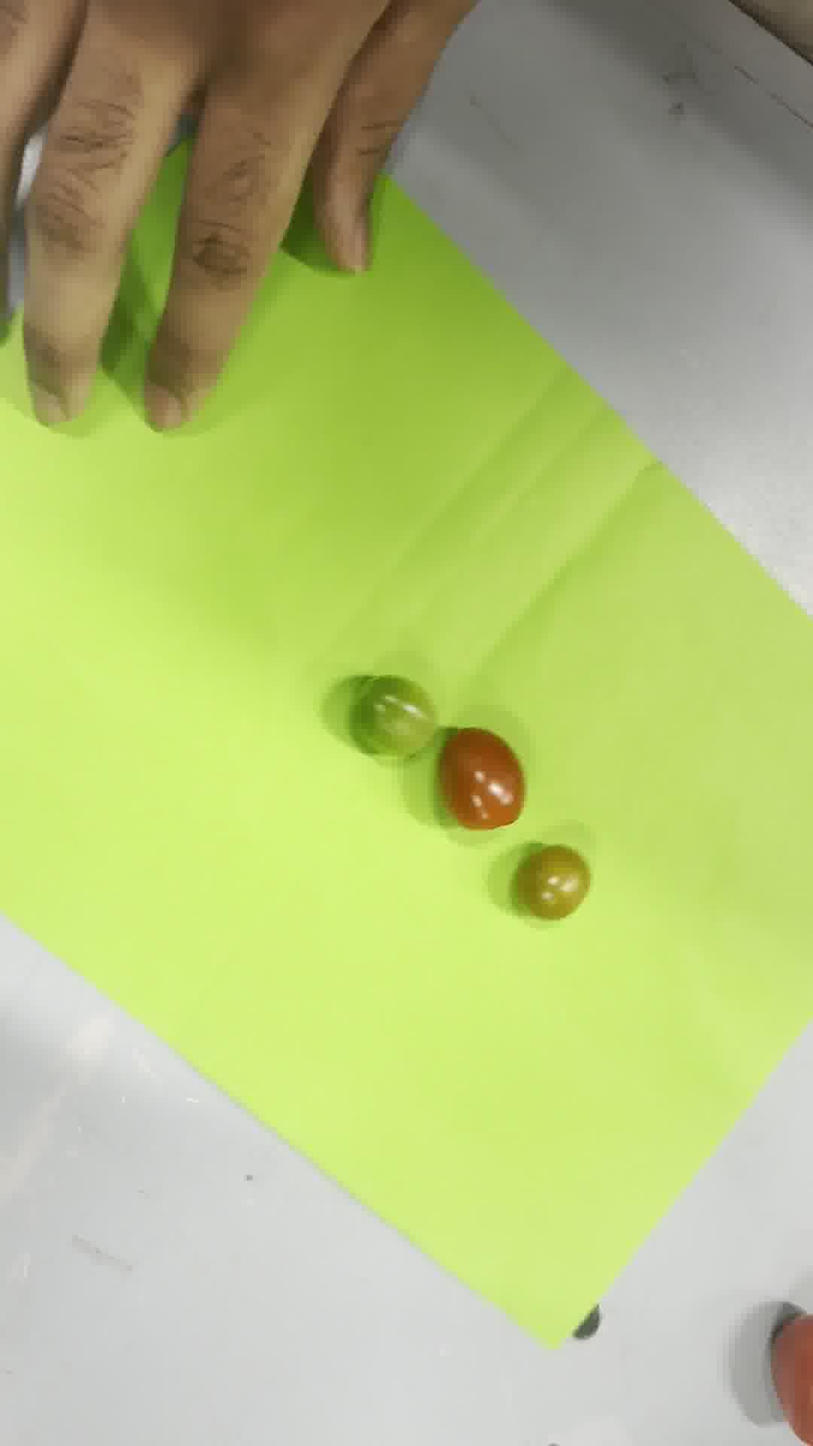green_cherry_tomato: (354, 676, 437, 758)
red_cherry_tomato: (439, 728, 524, 830)
yellow_cherry_tomato: (517, 845, 590, 920)
